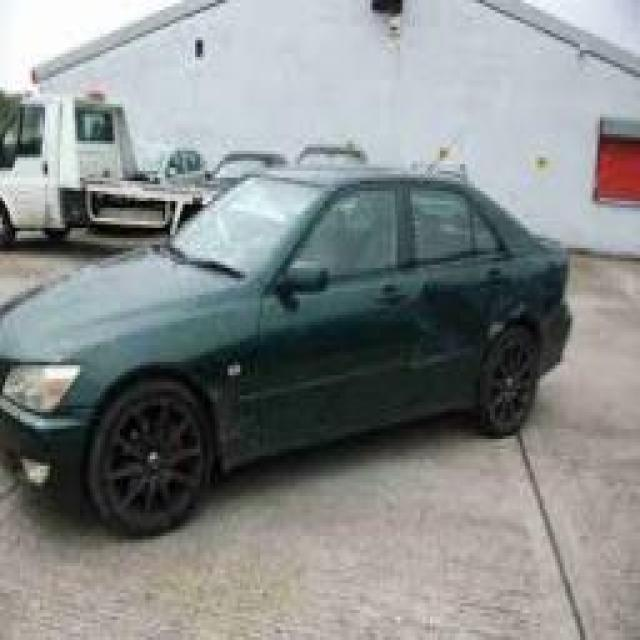Door: (409, 266, 487, 369)
